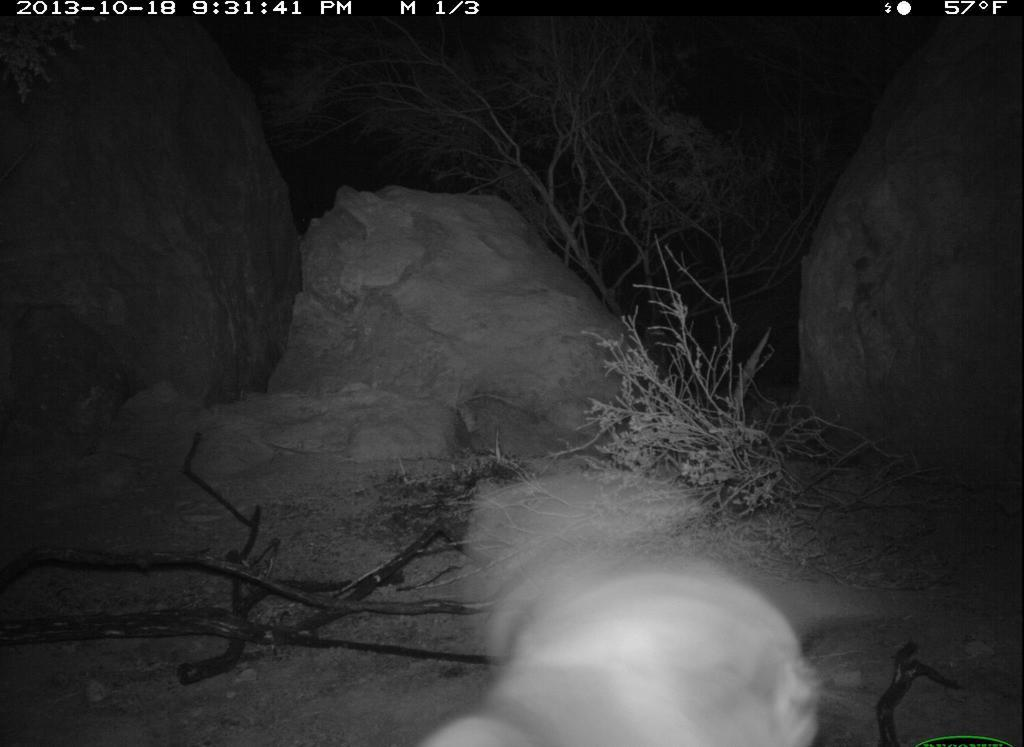bobcat: (414, 473, 821, 747)
